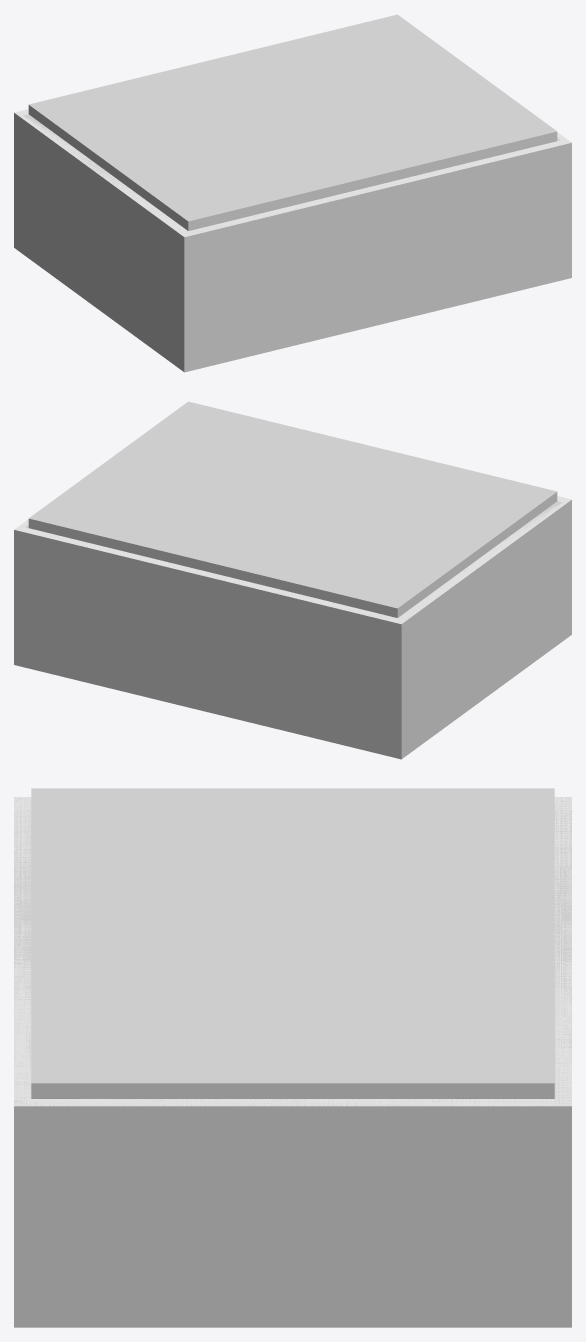
The model's file is room.glb.
3 renders of one model, top to bottom at view 1: azimuth 30°, elevation 25°; view 2: azimuth 150°, elevation 25°; view 3: azimuth 270°, elevation 25°, orthographic. The views are drawn at different scales.
Parts seen in each view (by area): view 1: ceiling-col, wall_south-col, wall_west-col, floor-col, ceiling, wall_north-col; view 2: ceiling-col, wall_north-col, wall_west-col, floor-col, ceiling, wall_south-col; view 3: ceiling-col, wall_east-col, ceiling, floor-col, wall_north-col, wall_south-col.
Part boxes in pixels (box(x1,y1,x2,y2)): ceiling-col: box(28, 14, 557, 230); wall_south-col: box(179, 143, 571, 362); wall_west-col: box(19, 114, 186, 358); floor-col: box(14, 238, 571, 372); ceiling: box(14, 109, 571, 237); wall_north-col: box(14, 113, 19, 241); ceiling-col: box(28, 401, 557, 617); wall_north-col: box(14, 530, 406, 749); wall_west-col: box(401, 501, 566, 745); floor-col: box(14, 625, 571, 759); ceiling: box(14, 496, 571, 623); wall_south-col: box(566, 500, 571, 628); ceiling-col: box(31, 788, 554, 1098); wall_east-col: box(31, 1099, 554, 1311); ceiling: box(14, 797, 571, 1106); floor-col: box(14, 1311, 571, 1327); wall_north-col: box(554, 797, 571, 1311); wall_south-col: box(14, 797, 31, 1311).
Size of the model in its own units: 8.4 by 3 by 6.4.
45 materials, 5 textured.
